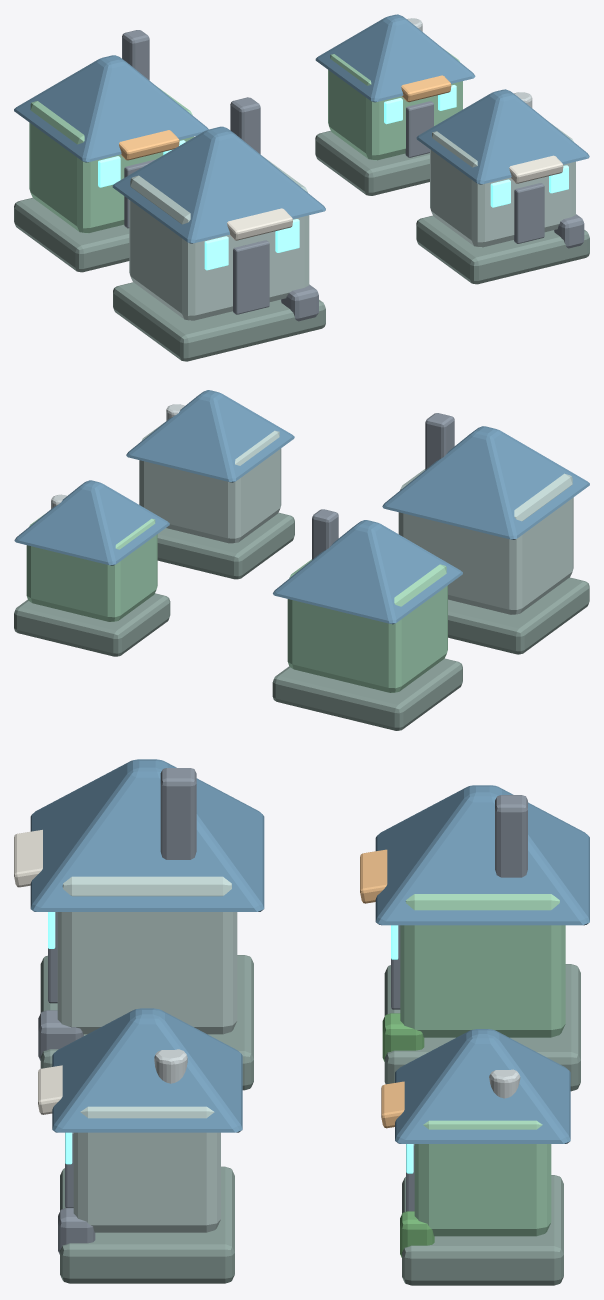
File: 08-house-set.glb
The picture shows the model from 3 angles, top to bottom: view 1: azimuth 30°, elevation 25°; view 2: azimuth 150°, elevation 25°; view 3: azimuth 270°, elevation 25°; orthographic projection. The views are drawn at different scales.
Parts seen in each view (by area): view 1: House_0_Roof, House_0_Walls, House_2_Roof, House_1_Roof, House_0_Foundation, House_2_Walls, House_3_Roof, House_1_Walls, House_1_Foundation, House_3_Walls, House_2_Foundation, House_3_Foundation (+15 smaller); view 2: House_0_Roof, House_2_Walls, House_0_Walls, House_2_Roof, House_1_Walls, House_1_Roof, House_3_Walls, House_3_Roof, House_2_Foundation, House_0_Foundation, House_3_Foundation, House_1_Foundation (+2 smaller); view 3: House_0_Walls, House_0_Roof, House_2_Walls, House_2_Roof, House_1_Roof, House_1_Walls, House_3_Roof, House_3_Walls, House_1_Foundation, House_3_Foundation, House_2_Foundation, House_0_Chimney (+12 smaller).
Boxes of the visible parts, bbox=[...] form: House_0_Roof: bbox=[112, 126, 325, 243]; House_0_Walls: bbox=[129, 156, 309, 320]; House_2_Roof: bbox=[14, 55, 208, 162]; House_1_Roof: bbox=[416, 89, 589, 184]; House_0_Foundation: bbox=[113, 282, 325, 361]; House_2_Walls: bbox=[29, 86, 194, 233]; House_3_Roof: bbox=[315, 14, 475, 102]; House_1_Walls: bbox=[430, 123, 575, 247]; House_1_Foundation: bbox=[416, 215, 589, 284]; House_3_Walls: bbox=[328, 49, 462, 160]; House_2_Foundation: bbox=[14, 197, 129, 272]; House_3_Foundation: bbox=[315, 130, 429, 195]; House_0_Roof: bbox=[382, 426, 589, 539]; House_2_Walls: bbox=[287, 559, 447, 692]; House_0_Walls: bbox=[398, 469, 573, 614]; House_2_Roof: bbox=[273, 520, 462, 624]; House_1_Walls: bbox=[139, 423, 281, 543]; House_1_Roof: bbox=[126, 390, 294, 482]; House_3_Walls: bbox=[26, 514, 157, 621]; House_3_Roof: bbox=[14, 480, 169, 565]; House_2_Foundation: bbox=[272, 658, 462, 730]; House_0_Foundation: bbox=[448, 577, 589, 654]; House_3_Foundation: bbox=[14, 593, 170, 656]; House_1_Foundation: bbox=[157, 512, 294, 579]; House_0_Walls: bbox=[57, 876, 237, 1034]; House_0_Roof: bbox=[30, 759, 264, 911]; House_2_Walls: bbox=[400, 894, 565, 1037]; House_2_Roof: bbox=[375, 785, 589, 925]; House_1_Roof: bbox=[52, 1008, 242, 1132]; House_1_Walls: bbox=[73, 1106, 220, 1232]; House_3_Roof: bbox=[395, 1029, 570, 1143]; House_3_Walls: bbox=[414, 1120, 551, 1236]; House_1_Foundation: bbox=[60, 1166, 234, 1283]; House_3_Foundation: bbox=[402, 1175, 563, 1285]; House_2_Foundation: bbox=[384, 964, 580, 1091]; House_0_Chimney: bbox=[160, 768, 196, 859].
Bounding box in the file's own units: 5.9 × 2.72 × 4.81.
